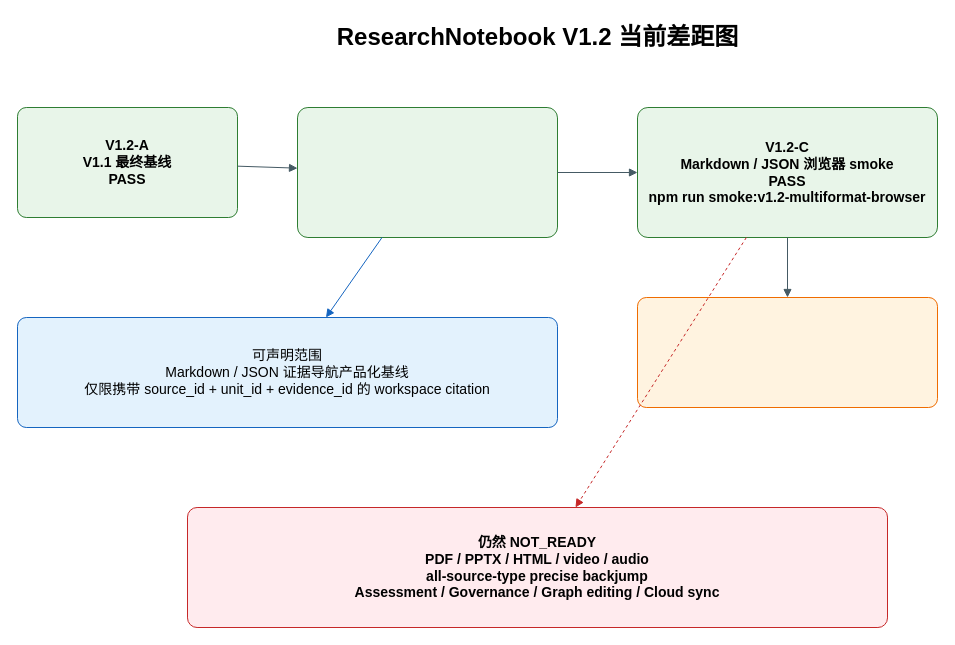
The diagram is 955 pixels wide and 645 high, and some of its shapes have lost their labels. Each missing label, with the centre of its shape:
"V1.2-B 多格式导入 UI 合同 text / markdown / json 已验证 其他格式显示待就绪 PASS" goes at point (427, 172).
"V1.2-D 手工验收跳过 验收门迁移到 V1.3 Agent 入口" goes at point (787, 352).
